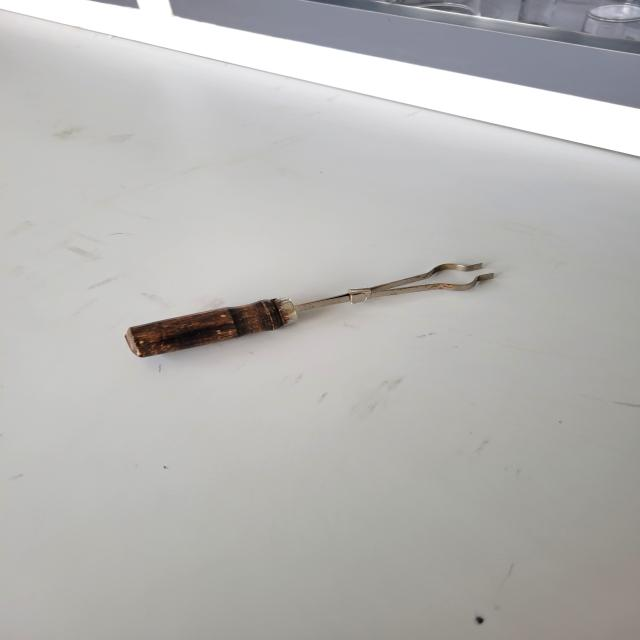TestTube_Holder: (108, 245, 502, 385)
